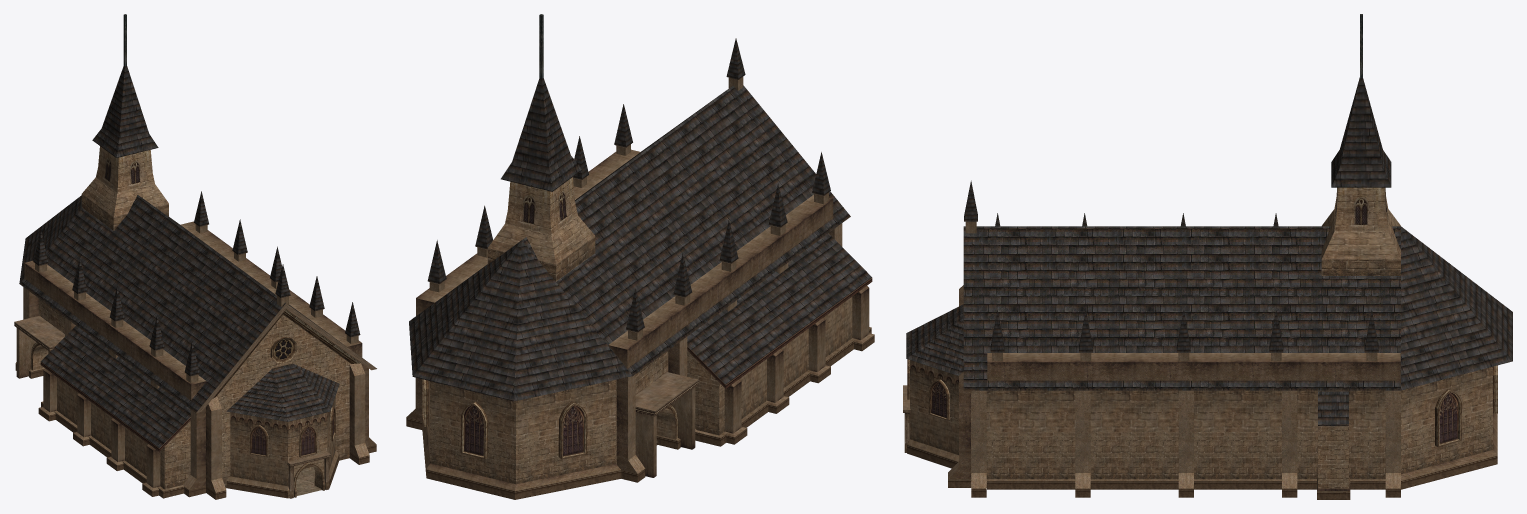
File: temple_complete.glb
3 renders of one model, left to right at view 1: azimuth 30°, elevation 25°; view 2: azimuth 150°, elevation 25°; view 3: azimuth 270°, elevation 25°, orthographic. The views are drawn at different scales.
Visible parts, largest first — view 1: SI_CH_Body, bsp_-18_50; view 2: SI_CH_Body; view 3: SI_CH_Body.
Part boxes in pixels (x1,y1,x2,y2): SI_CH_Body: (14,14,376,499); bsp_-18_50: (296,467,321,495); SI_CH_Body: (406,14,874,499); SI_CH_Body: (903,14,1512,499).
Size of the model in its own units: 8.39 by 12.63 by 16.35.
49 materials, 49 textured.
